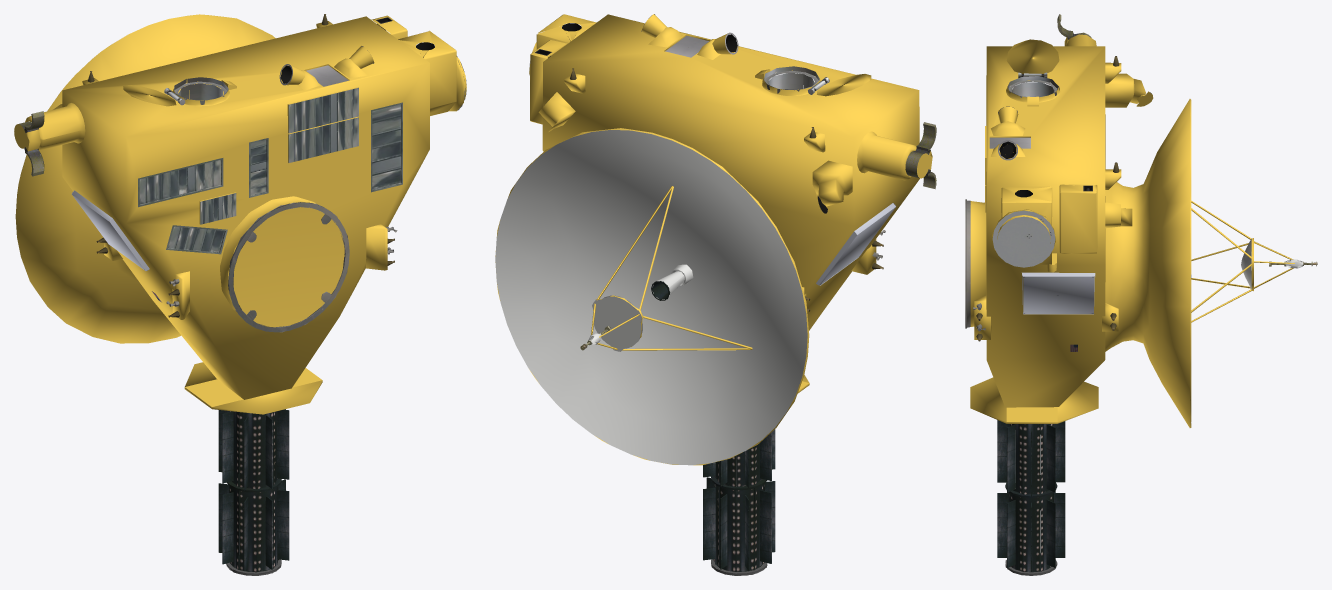
Rendered from newhorizons_lod1.glb.
3 views of the same model, side by side, from view 1: azimuth 30°, elevation 25°; view 2: azimuth 150°, elevation 25°; view 3: azimuth 270°, elevation 25° (orthographic). The views are drawn at different scales.
Visible parts, largest first — view 1: newhorizons_lod1; view 2: newhorizons_lod1; view 3: newhorizons_lod1.
Part boxes in pixels (bbox=[...]): newhorizons_lod1: bbox=[14, 14, 466, 575]; newhorizons_lod1: bbox=[495, 14, 936, 575]; newhorizons_lod1: bbox=[965, 14, 1317, 575].
Bounding box in the file's own units: 2.76 × 3.31 × 2.25.
Materials: 5 (2 with a texture image).
